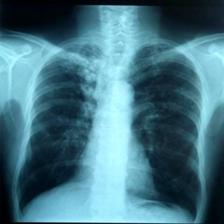tuberculosis: (13, 36, 208, 223)
